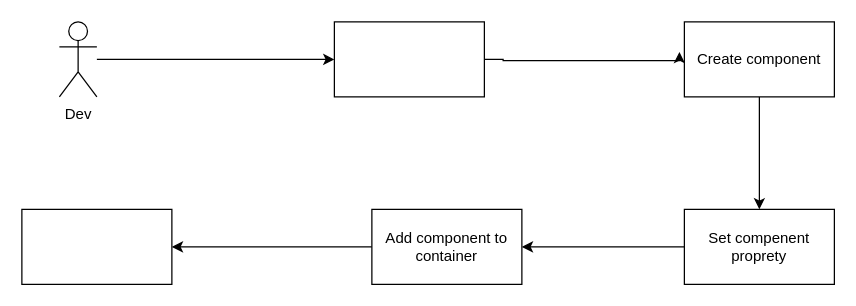
This 856x306 diagram has some shape labels left out. The shapes that lost their labels are listed below. From the top down, each one's centre as x and y in pixels, then its label:
the point at 408,59: Create container
the point at 96,246: show the container
